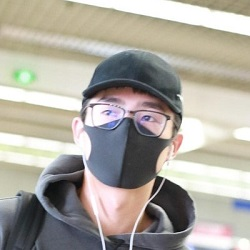mask: (77, 118, 172, 189)
